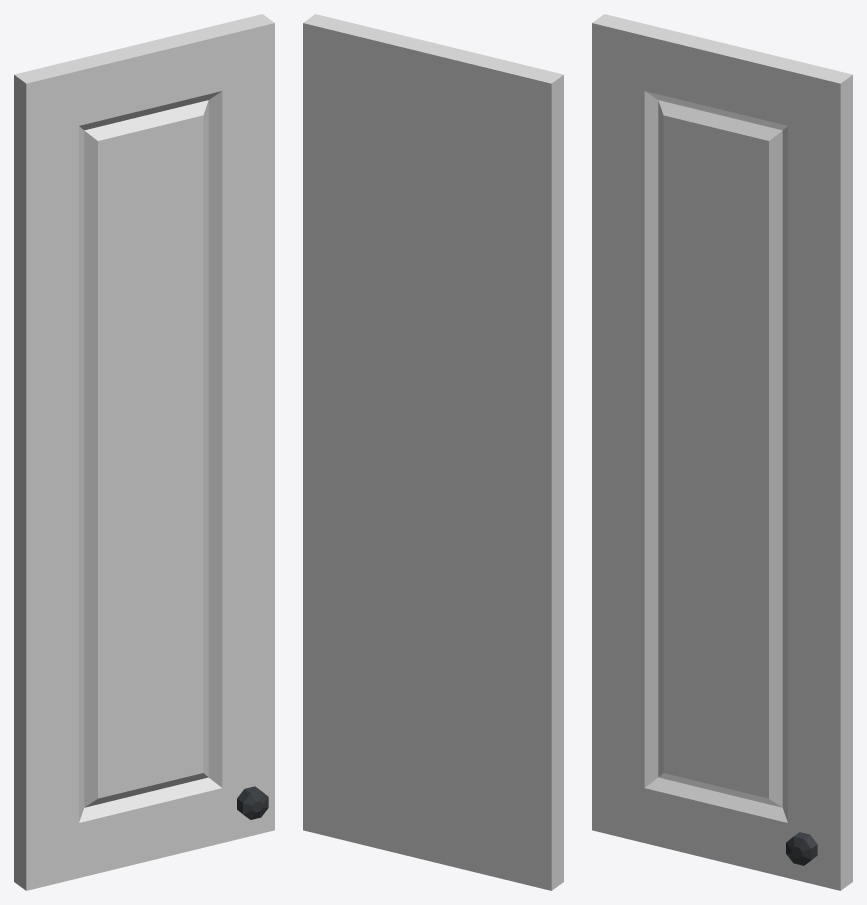
Rendered from Door3_C1_14.fbx.
3 views of the same model, side by side, from view 1: azimuth 30°, elevation 25°; view 2: azimuth 150°, elevation 25°; view 3: azimuth 330°, elevation 25° (orthographic).
Parts seen in each view (by area): view 1: Door3_C1_14; view 2: Door3_C1_14; view 3: Door3_C1_14.
Part boxes in pixels (x1,y1,x2,y2): Door3_C1_14: (14, 14, 274, 890); Door3_C1_14: (303, 14, 563, 890); Door3_C1_14: (592, 14, 852, 890).
Bounding box in the file's own units: 29 × 90 × 5.19.
